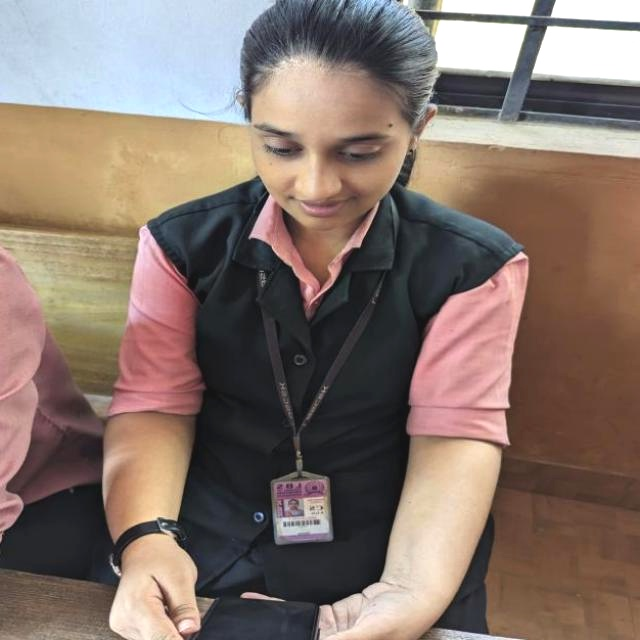ID_card: (241, 261, 394, 538)
